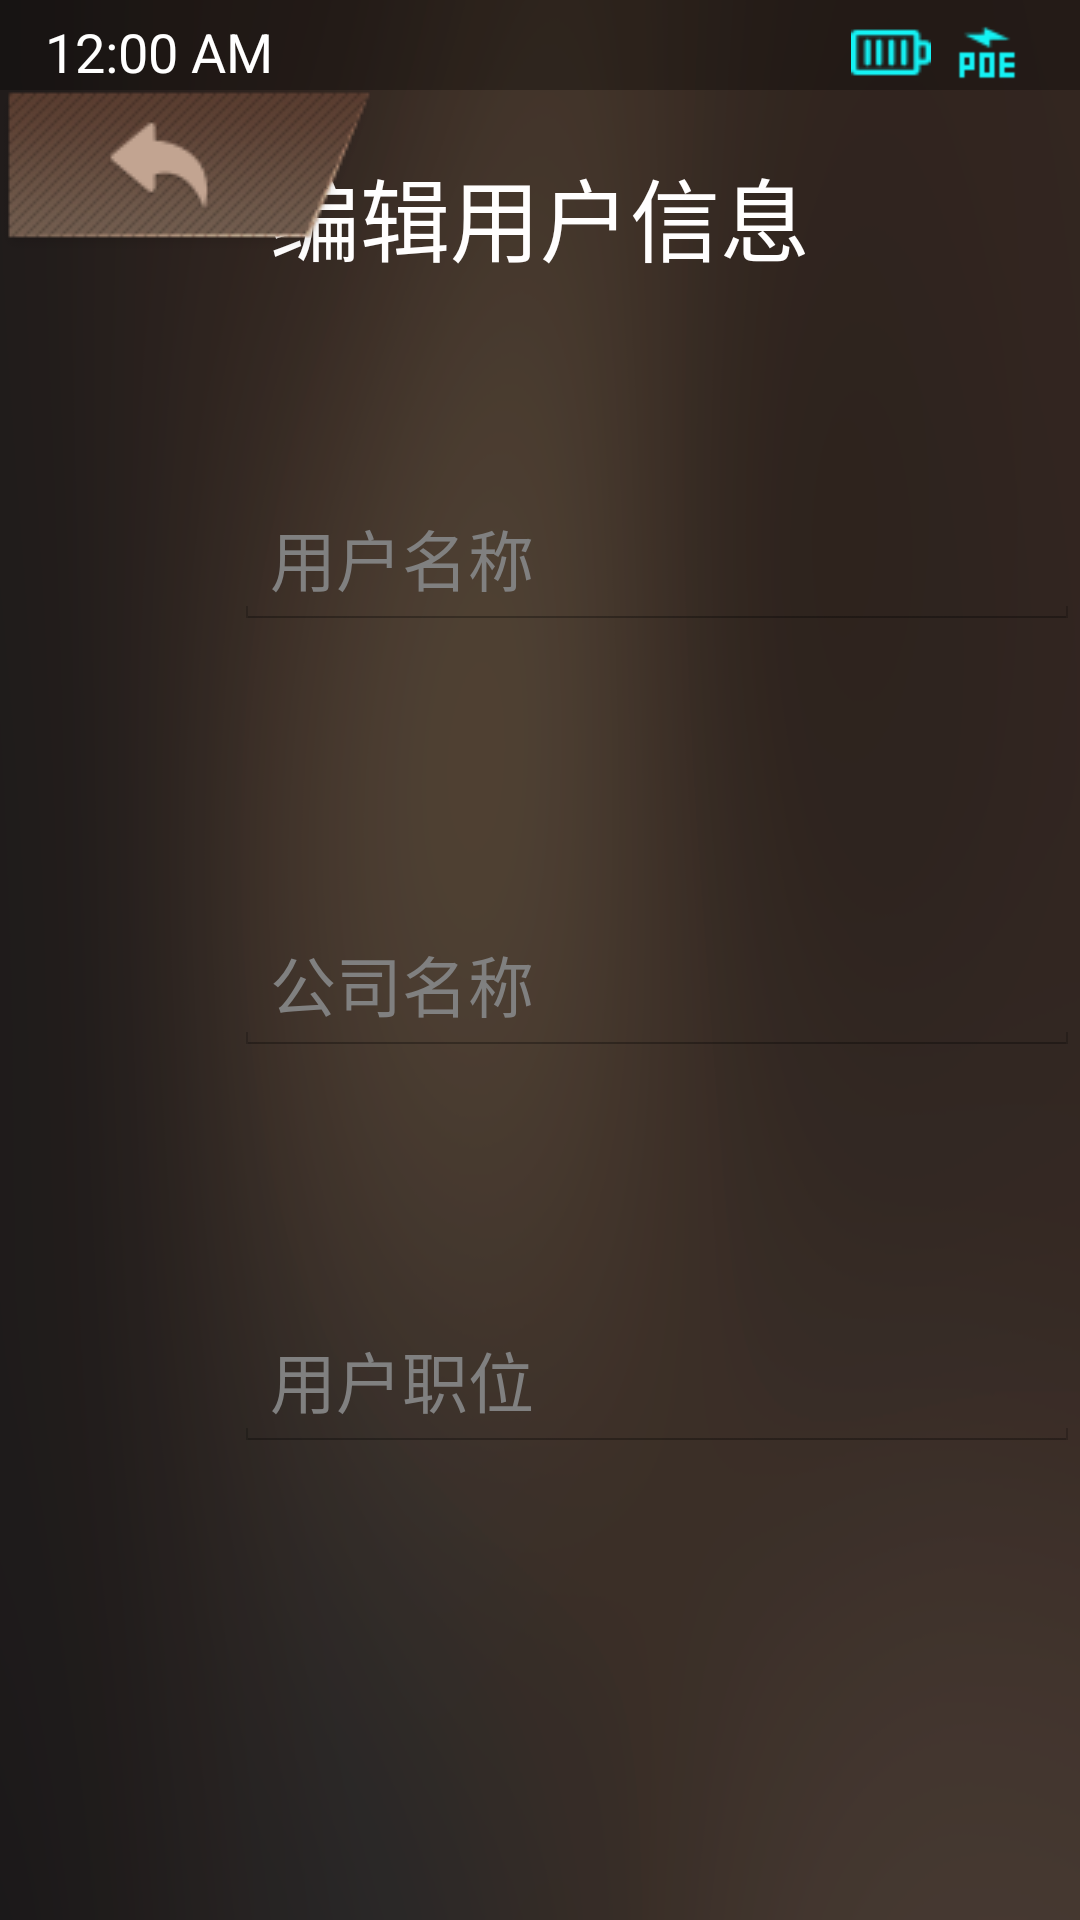

Where to tap for icons on this 1080*1920 app screen, as point (x, y):
battery level list: point (891, 52)
